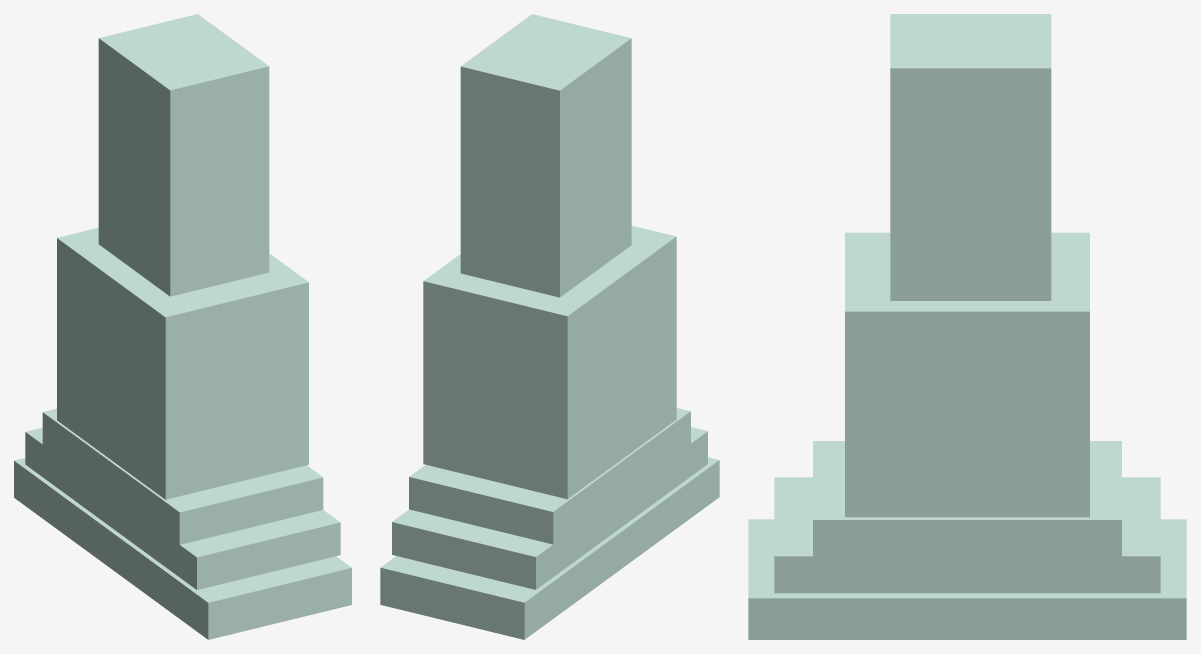
3 renders of one model, left to right at view 1: azimuth 30°, elevation 25°; view 2: azimuth 150°, elevation 25°; view 3: azimuth 270°, elevation 25°, orthographic. The views are drawn at different scales.
Parts seen in each view (by area): view 1: Renderer Node; view 2: Renderer Node; view 3: Renderer Node.
Boxes of the visible parts, x1=… form: Renderer Node: x1=14, y1=14, x2=351, y2=639; Renderer Node: x1=380, y1=14, x2=719, y2=639; Renderer Node: x1=748, y1=14, x2=1186, y2=639.
Size of the model in its own units: 0.2266 by 0.75 by 0.5312.
